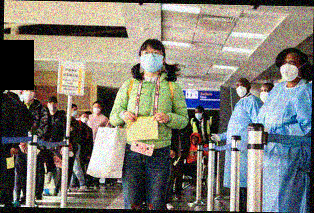with_mask: (139, 47, 164, 74), (280, 56, 300, 83), (22, 87, 37, 102), (236, 83, 248, 99), (259, 88, 271, 104), (46, 101, 58, 112), (92, 104, 102, 116), (195, 110, 204, 121), (80, 115, 89, 124), (70, 108, 78, 118)
without_mask: (191, 137, 198, 145)
